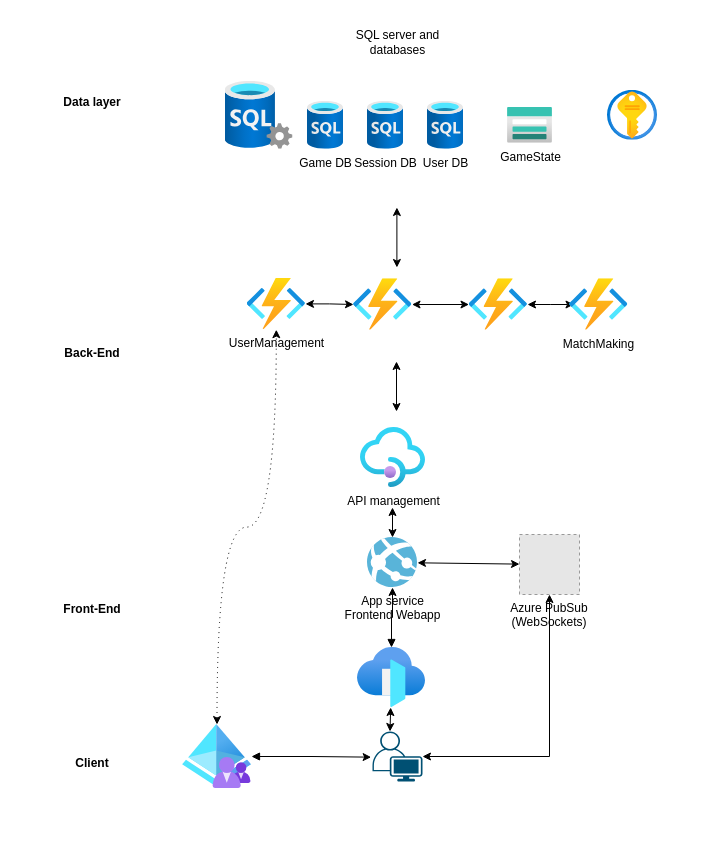
This 703x841 diagram has some shape labels left out. Grey dashed boxes stand in for pictures. The shapes that lost their labels are listed below. From the top down, each one's centre as x and y in pixels, then its label:
the point at 632,115: Key vault - Secret management
the point at 382,304: SessionManagement
the point at 497,304: Game
the point at 391,677: Front door
the point at 216,756: Azure B2C For federated authentication
